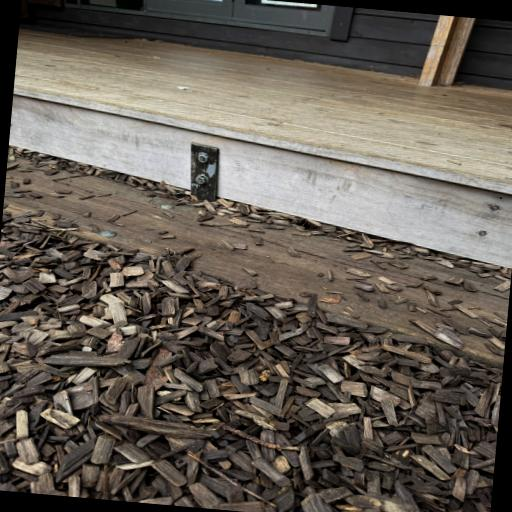step: (3, 84, 512, 365)
